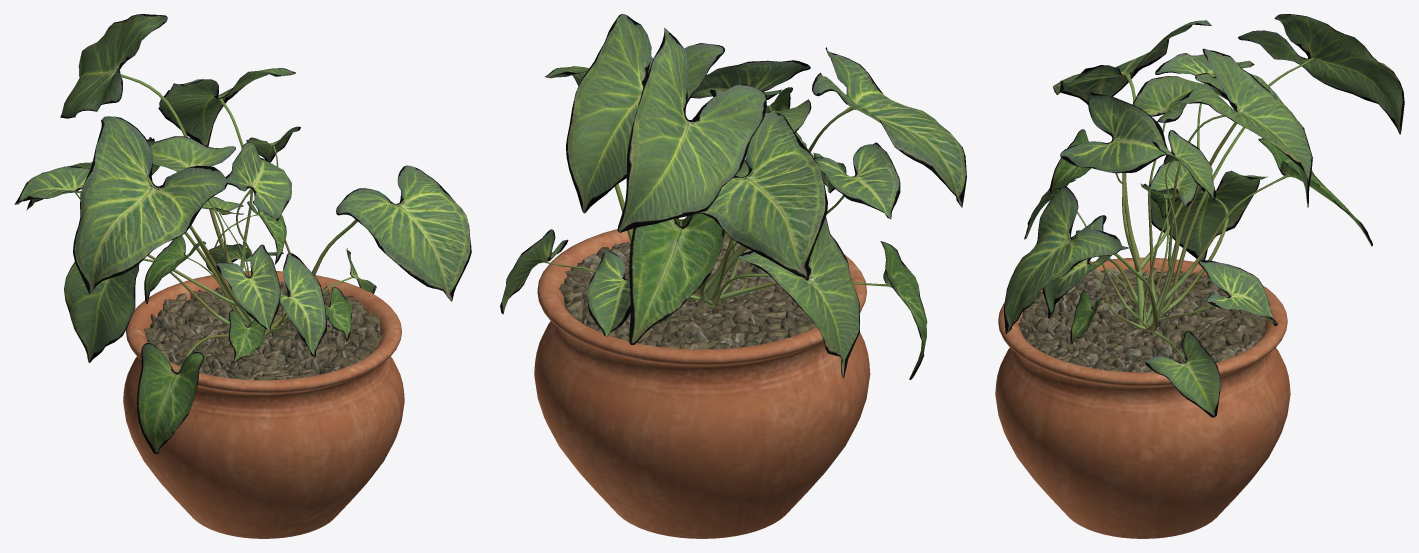
Rendered from potted_plant_02.glb.
The picture shows the model from 3 angles, left to right: view 1: azimuth 30°, elevation 25°; view 2: azimuth 150°, elevation 25°; view 3: azimuth 270°, elevation 25°; orthographic projection. The views are drawn at different scales.
Parts seen in each view (by area): view 1: potted_plant_02_leaves, potted_plant_02_pot, potted_plant_02_dirt; view 2: potted_plant_02_leaves, potted_plant_02_pot, potted_plant_02_dirt; view 3: potted_plant_02_leaves, potted_plant_02_pot, potted_plant_02_dirt.
Part boxes in pixels (x1=…): potted_plant_02_leaves: x1=14, y1=14, x2=471, y2=454; potted_plant_02_pot: x1=123, y1=271, x2=404, y2=538; potted_plant_02_dirt: x1=143, y1=282, x2=383, y2=380; potted_plant_02_leaves: x1=500, y1=14, x2=966, y2=379; potted_plant_02_pot: x1=534, y1=219, x2=870, y2=538; potted_plant_02_dirt: x1=559, y1=234, x2=816, y2=349; potted_plant_02_leaves: x1=1004, y1=14, x2=1404, y2=417; potted_plant_02_pot: x1=995, y1=257, x2=1290, y2=538; potted_plant_02_dirt: x1=1018, y1=267, x2=1266, y2=372.
Size of the model in its own units: 0.7012 by 0.8412 by 0.6574.
2 materials, 2 textured.
